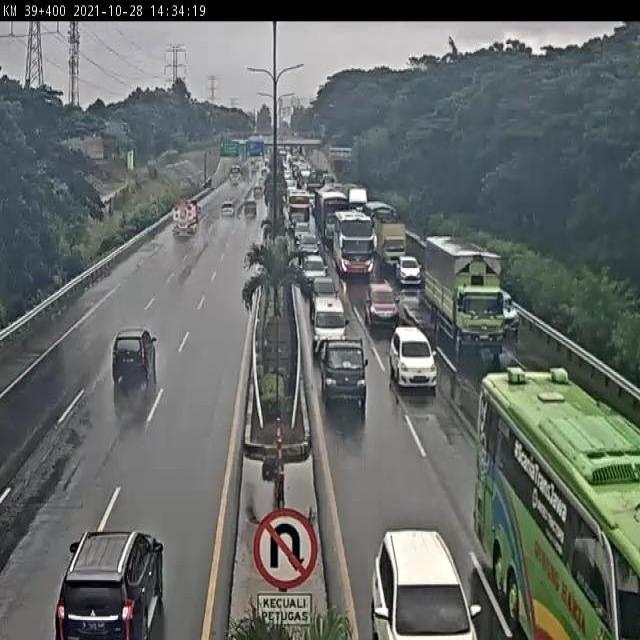car: (57, 528, 167, 639), (373, 529, 477, 640), (112, 327, 155, 415), (316, 340, 366, 409), (389, 328, 438, 392), (310, 277, 347, 343), (368, 282, 400, 330), (297, 252, 328, 282), (296, 232, 324, 263), (396, 255, 422, 286), (367, 203, 398, 225), (366, 201, 394, 219), (504, 364, 526, 385), (236, 199, 257, 219), (223, 200, 238, 218), (220, 206, 234, 221), (221, 202, 234, 216)
truck: (421, 233, 505, 344), (329, 211, 380, 281), (173, 198, 201, 238)
